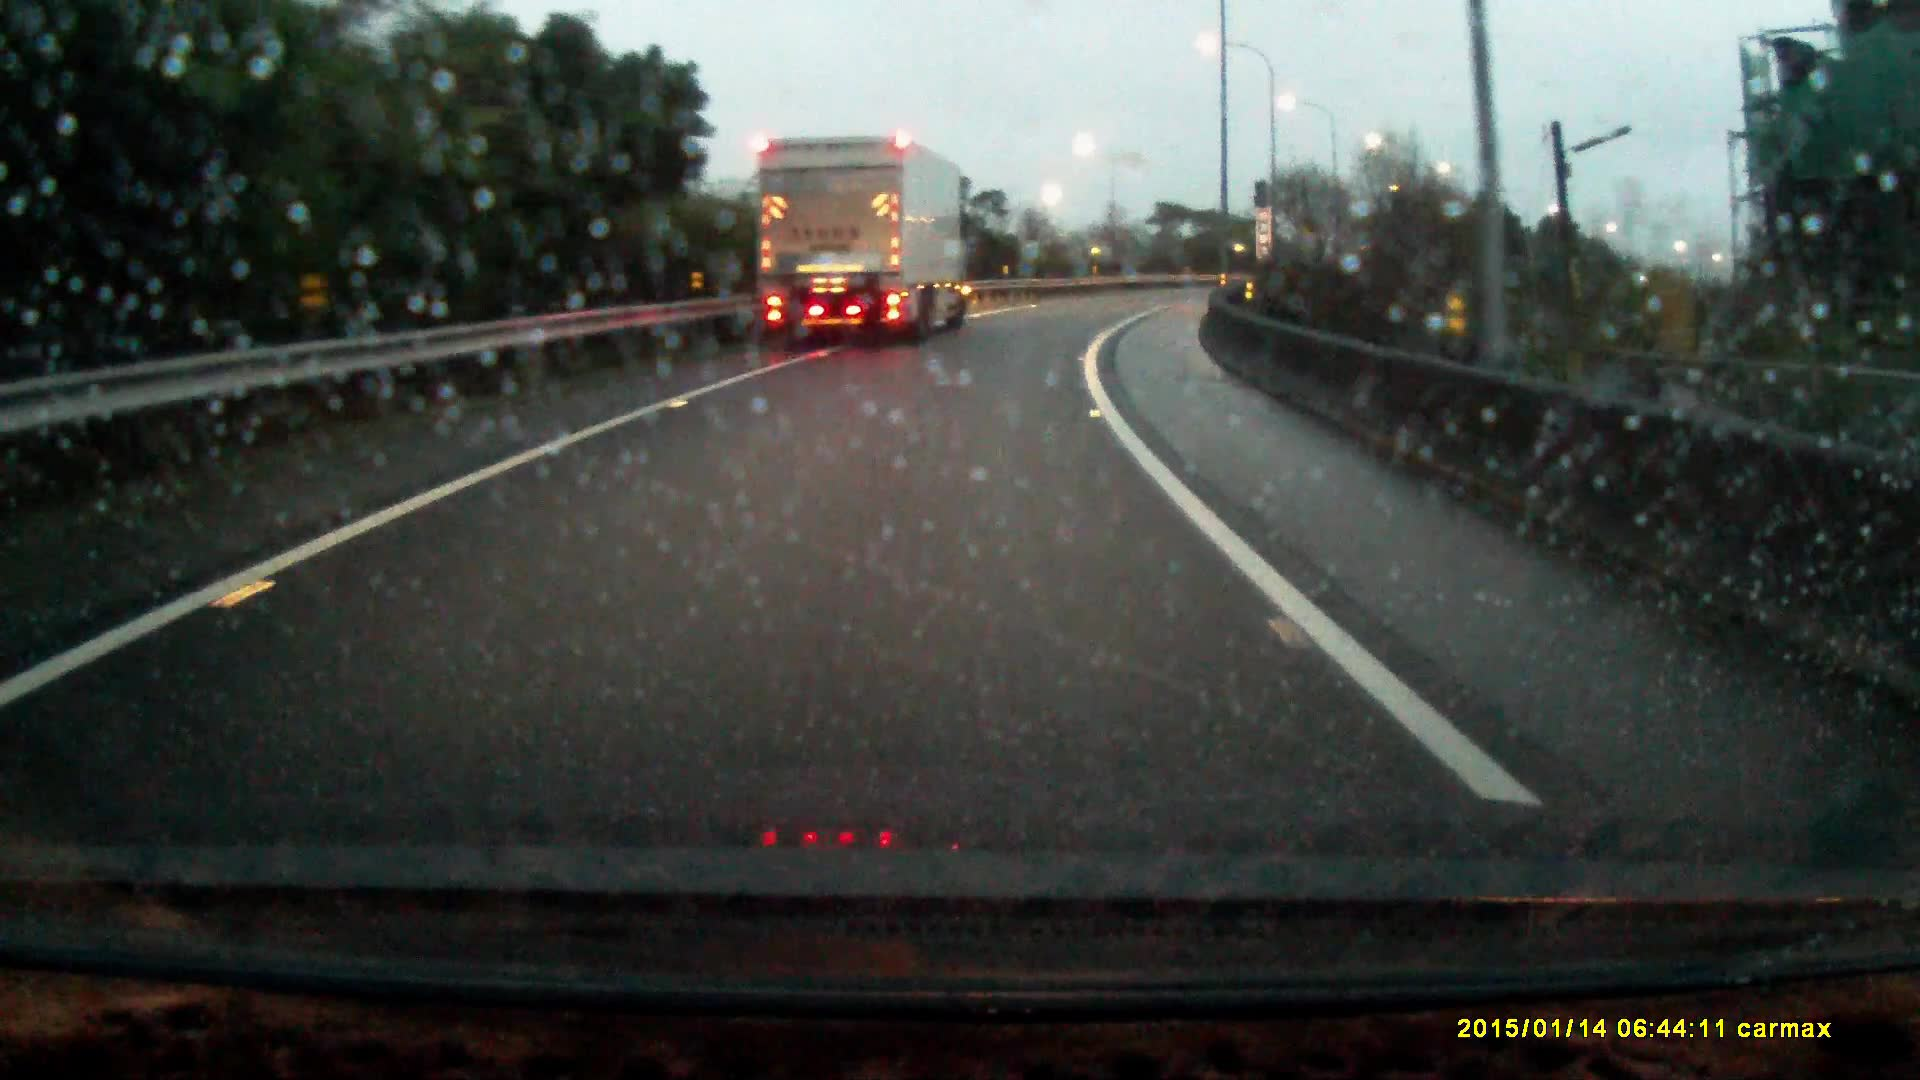vehicle: (760, 138, 971, 353)
